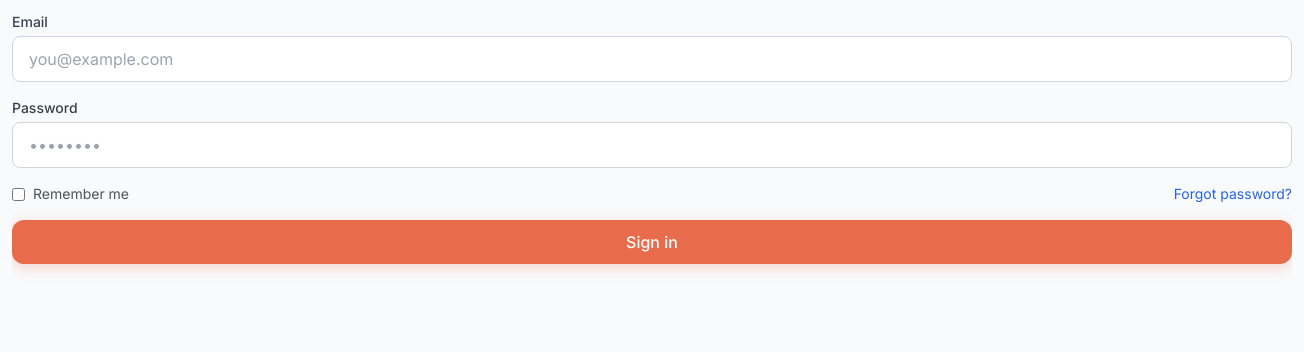
LoginForm › shows generic error on unexpected failure
This screenshot has width=1304, height=352.
In the field with placeholder "you@example.com": (652, 59) [12, 36, 1292, 82], type "test@example.com"
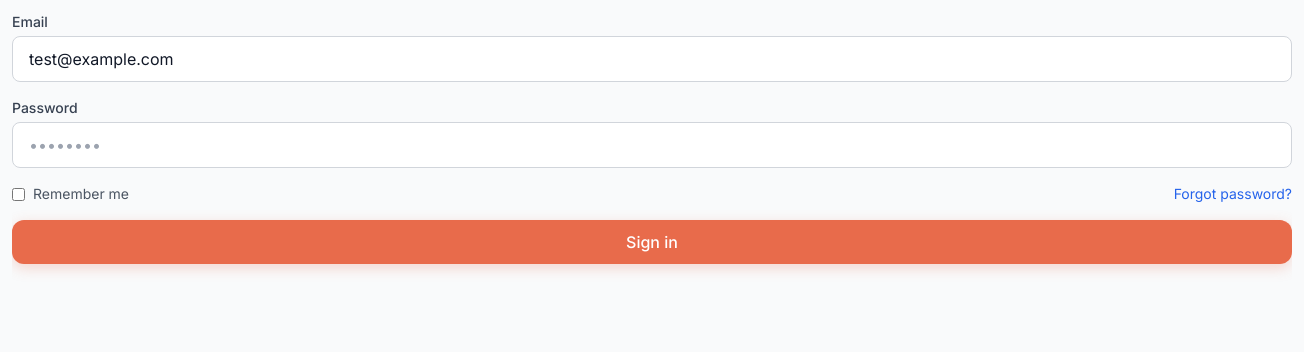
In the password field with placeholder "••••••••": (652, 145) [12, 122, 1292, 168], type "password123"
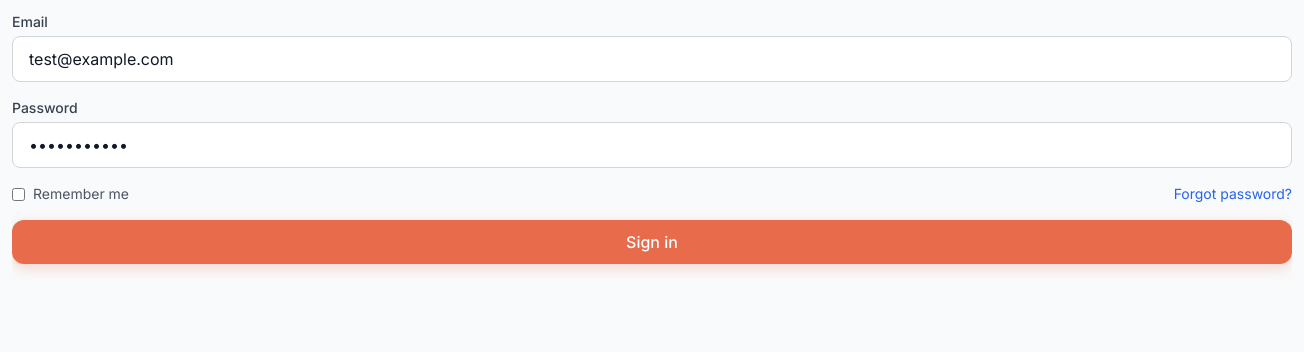
Submit the form from the button "Sign in", box [12, 220, 1292, 264]
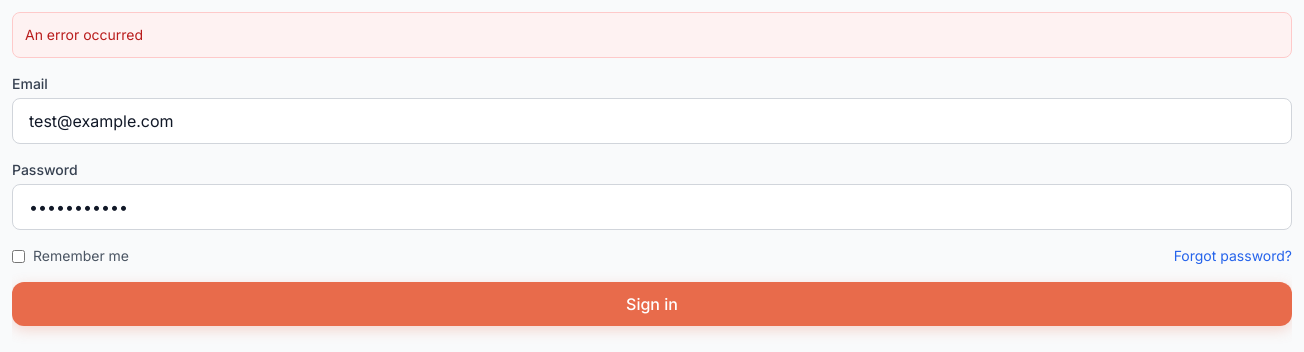
Check: the text "An error occurred" is shown, box [12, 12, 1292, 58]
